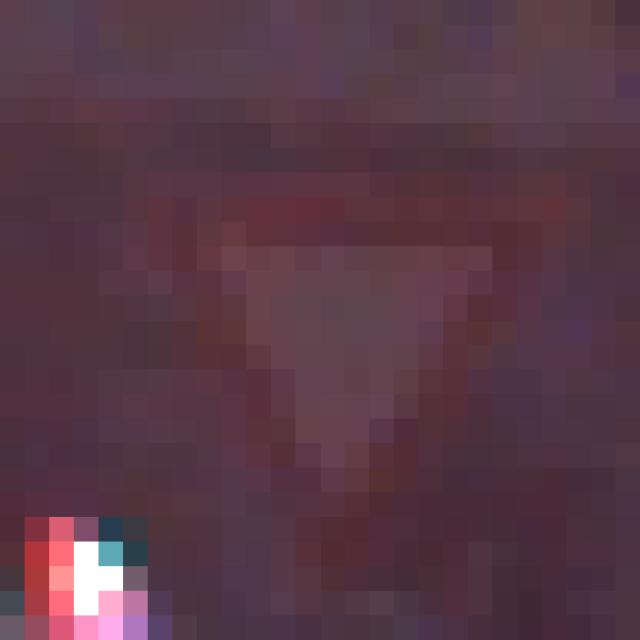Give Way: (149, 124, 518, 518)
